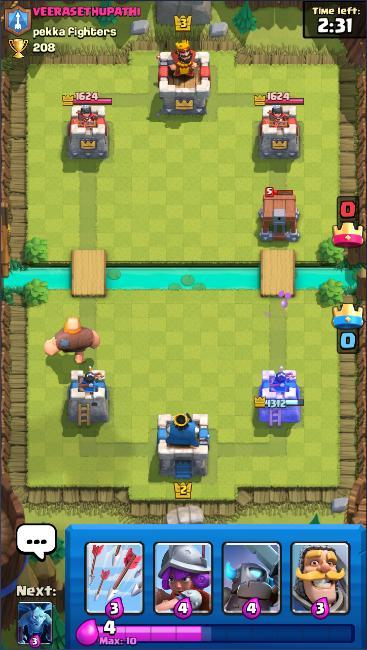ally_giant: (42, 316, 101, 365)
enemy_goblin_cage: (255, 186, 304, 243)
